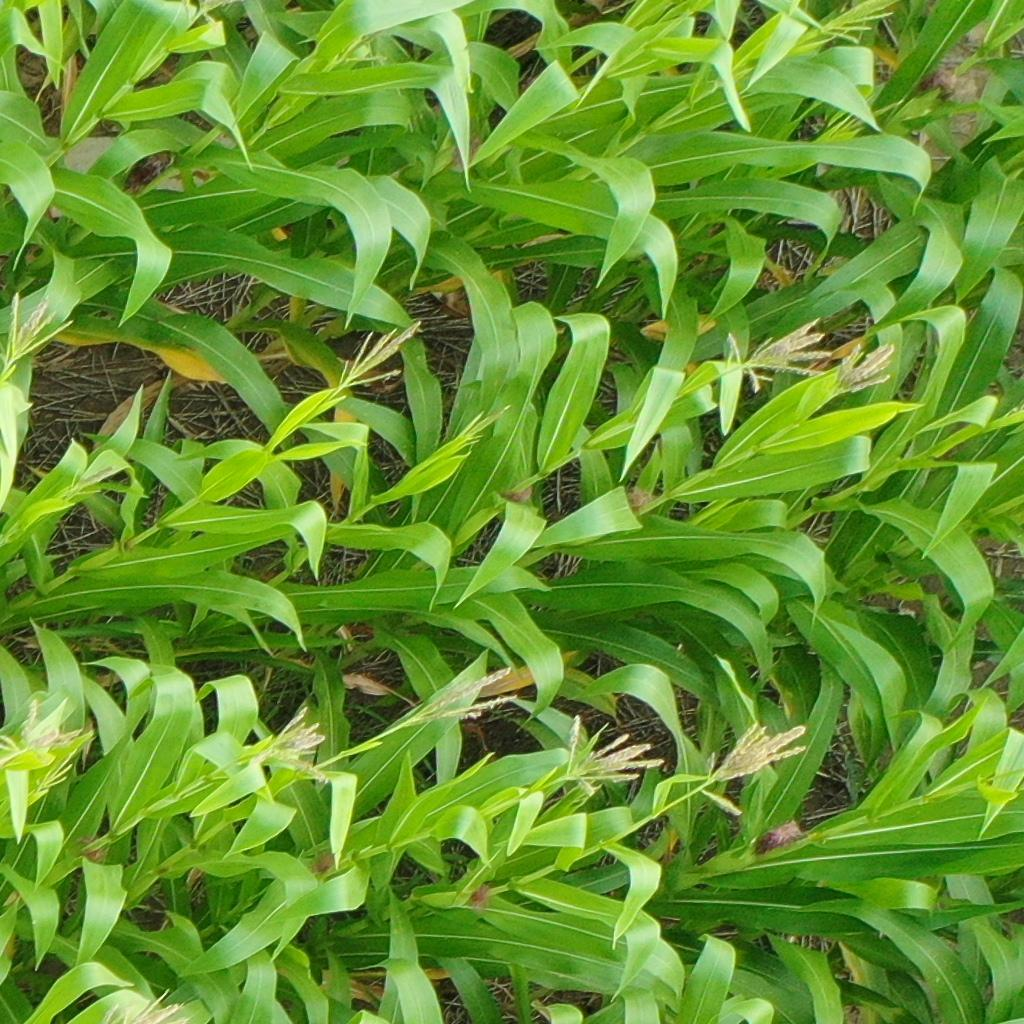Tassel: (700, 721, 809, 819), (724, 317, 836, 394), (564, 716, 665, 795), (407, 666, 522, 726), (336, 320, 424, 394), (245, 709, 329, 783), (8, 290, 75, 366), (1, 698, 83, 759), (832, 343, 895, 396), (823, 1, 899, 44), (105, 988, 189, 1024), (454, 404, 513, 449), (37, 748, 79, 795), (70, 464, 124, 499), (339, 34, 387, 66), (184, 1, 240, 26)
